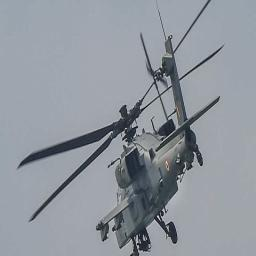helicopter: (28, 9, 226, 254)
